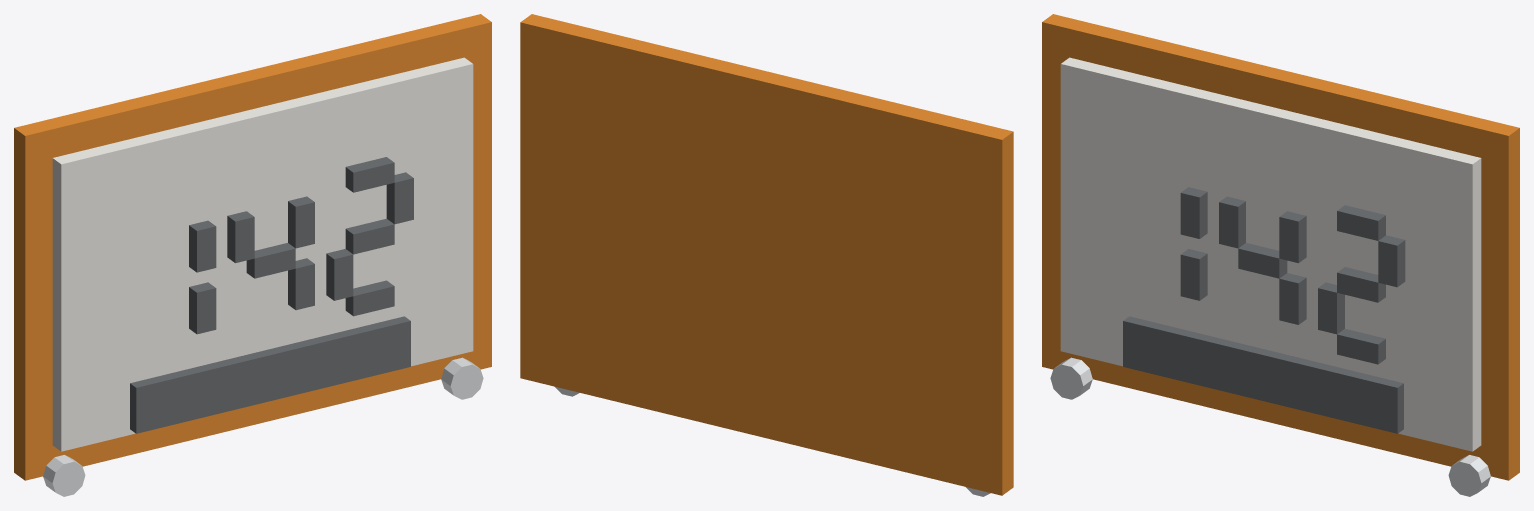
File: self-storage-facility-and-loading-bay-self-storage-fac-5505754e__34702.glb
3 renders of one model, left to right at view 1: azimuth 30°, elevation 25°; view 2: azimuth 150°, elevation 25°; view 3: azimuth 330°, elevation 25°, orthographic. The views are drawn at different scales.
Parts seen in each view (by area): view 1: self-storage-facility-and-loading-bay-unit-number-plate; view 2: self-storage-facility-and-loading-bay-unit-number-plate; view 3: self-storage-facility-and-loading-bay-unit-number-plate.
Boxes of the visible parts, x1,y1,x2,y2 form: self-storage-facility-and-loading-bay-unit-number-plate: (14,14,491,496); self-storage-facility-and-loading-bay-unit-number-plate: (520,14,1013,496); self-storage-facility-and-loading-bay-unit-number-plate: (1042,14,1519,496).
Bounding box in the file's own units: 0.34 × 0.2514 × 0.035.
